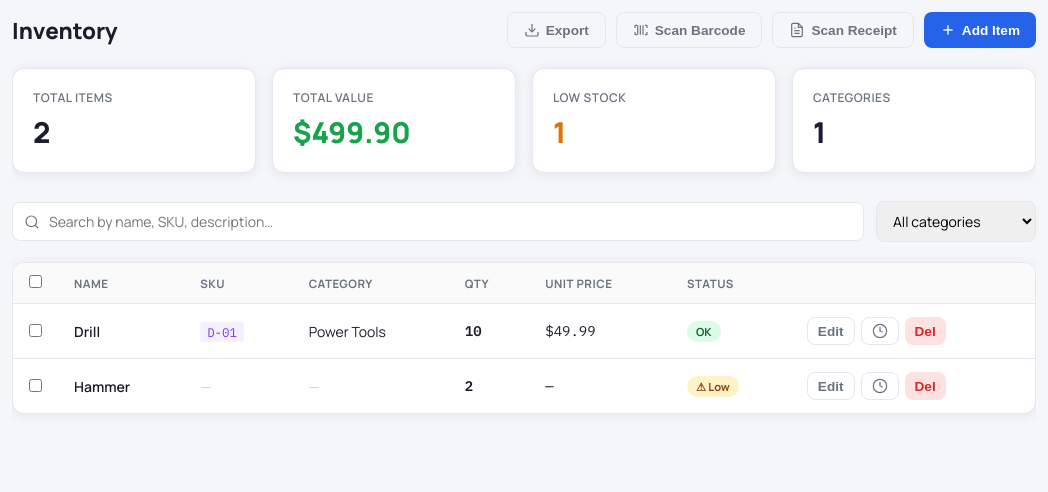
InventoryPage — bulk selection › shows bulk action bar when an item is selected
Expected: the text "Drill" is shown, [74,322,100,340]
Click the checkbox next to "Drill".
click(36, 330)  # box [29,324,42,336]
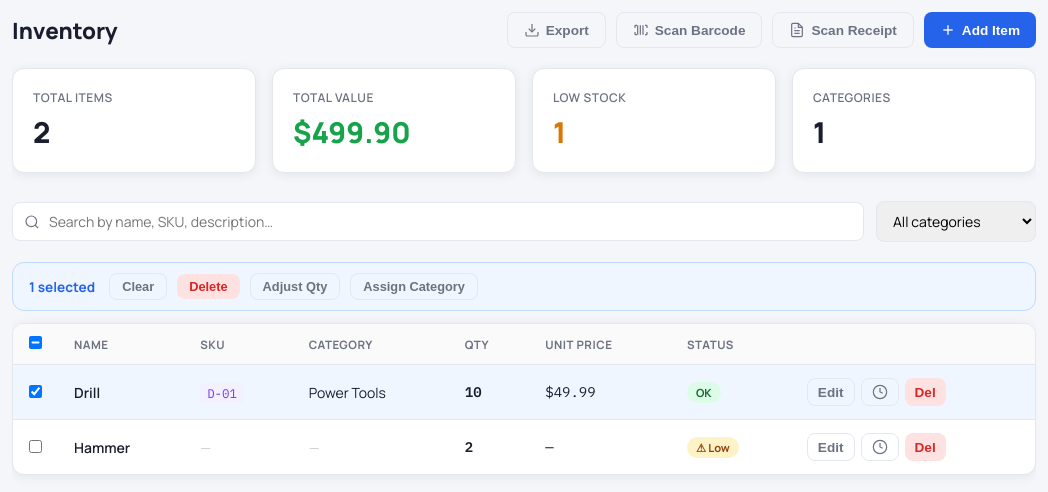
Expected: the text "1 selected" is shown, [29,278,95,296]
